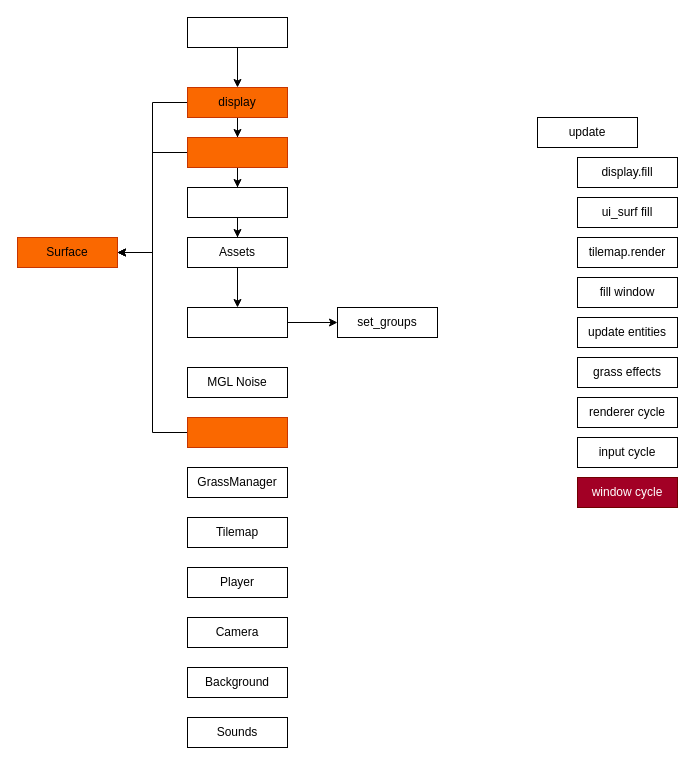
Some shapes in this 695 by 765 pixel diagram are drawn without their labels. The box of each missing label's shape, as (x1, y1, x2, y2) in pixels:
Glow: (186, 416, 288, 448)
HUD: (186, 186, 288, 218)
init pygame: (186, 16, 288, 48)
Renderer: (186, 306, 288, 338)
ui_surf: (186, 136, 288, 168)
